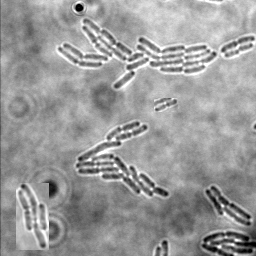Dividing: (219, 34, 255, 52), (223, 41, 253, 57), (154, 98, 178, 112)
Microcolony: (57, 18, 216, 89), (75, 120, 169, 197), (16, 183, 49, 250), (204, 184, 251, 226), (200, 230, 255, 255)
